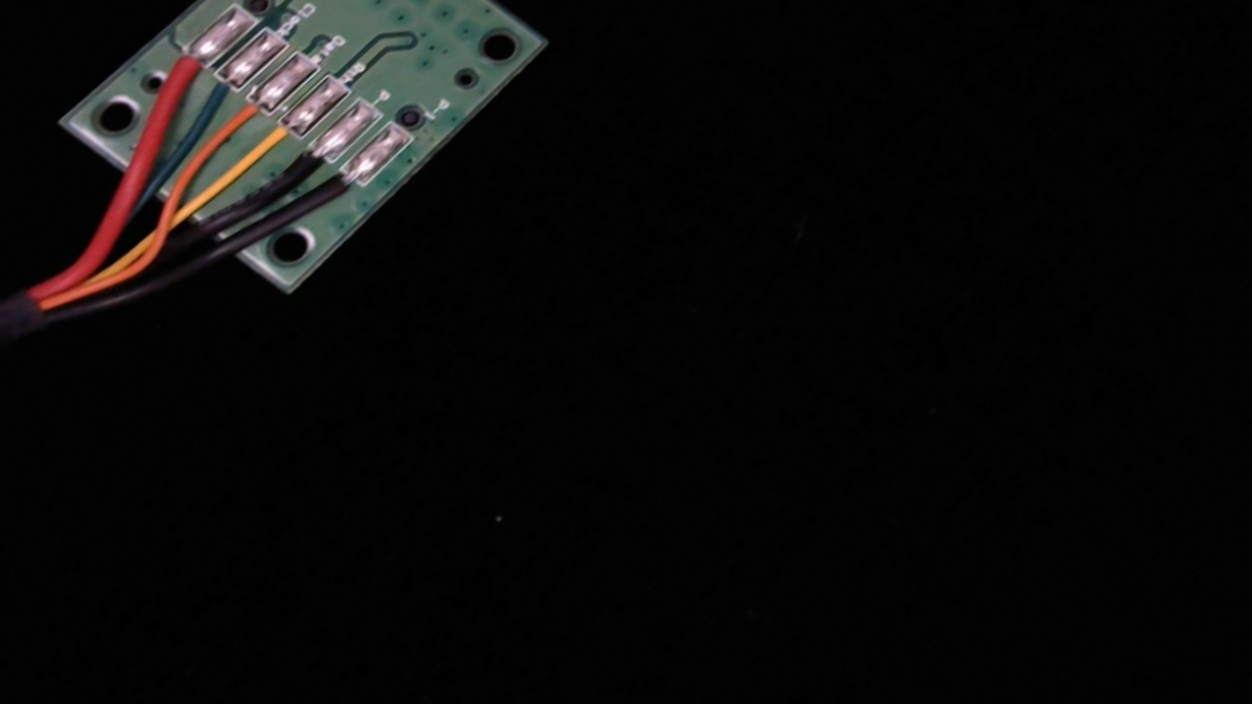Black: (262, 130, 348, 200)
Black1: (296, 156, 383, 228)
Green: (168, 58, 258, 129)
Orange: (195, 83, 287, 157)
Red: (134, 34, 226, 105)
Yellow: (225, 103, 320, 180)
